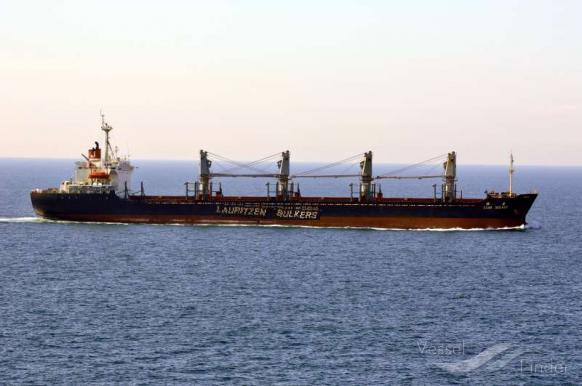OCR: (214, 202, 322, 220)
